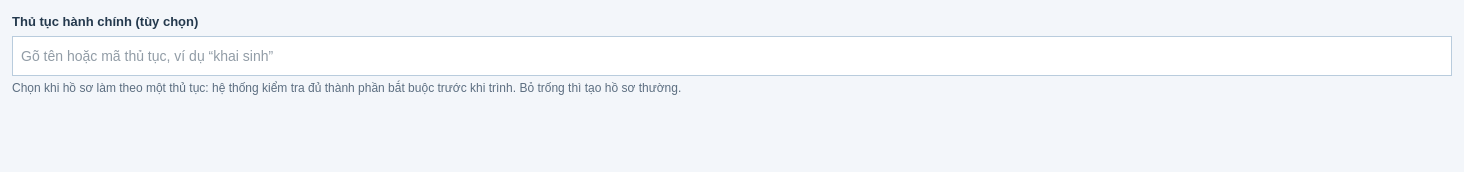
ProcedurePicker › chưa gõ đủ 2 ký tự thì không gọi API và nhắc cách tìm
The image size is (1464, 172).
Type "k" into the dropdown at (732, 56), box [12, 36, 1452, 76]
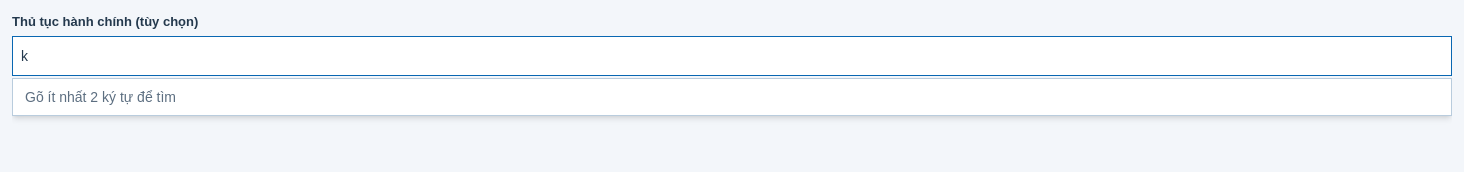
Check: the list shows "Gõ ít nhất 2 ký tự", box [25, 89, 176, 105]
